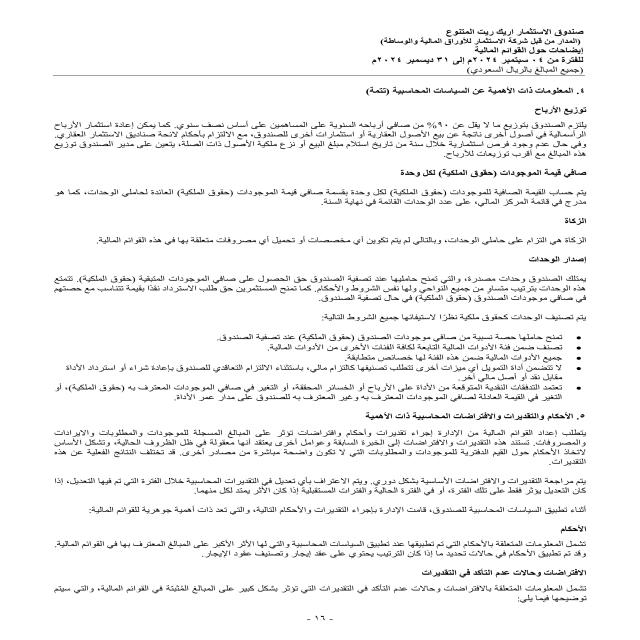notes: (467, 47, 588, 56)
text: (25, 100, 592, 608)
